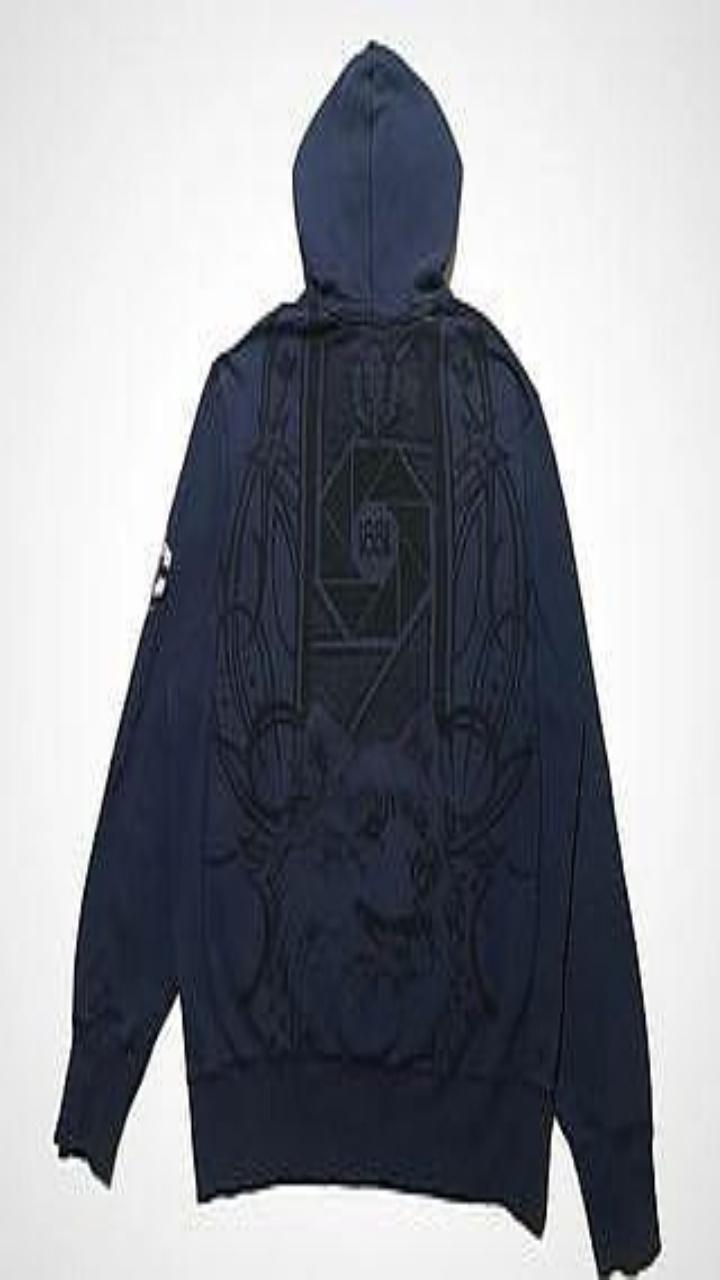Hoodie: (55, 42, 659, 1274)
